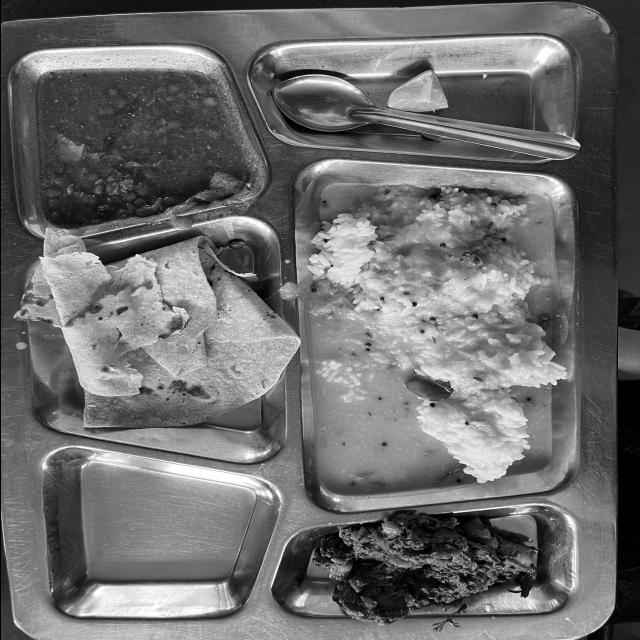Full-Plate: (45, 16, 587, 622)
